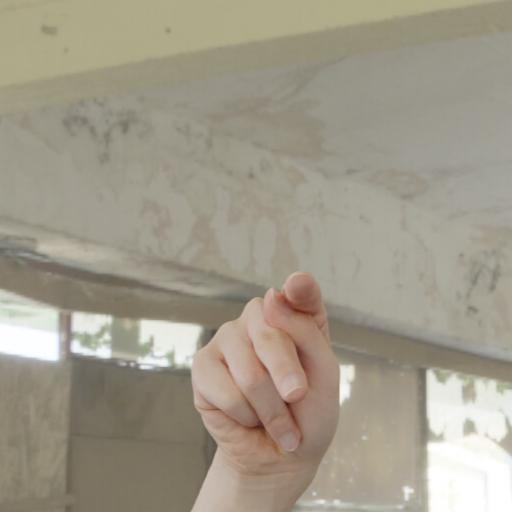P: (169, 258, 353, 490)
